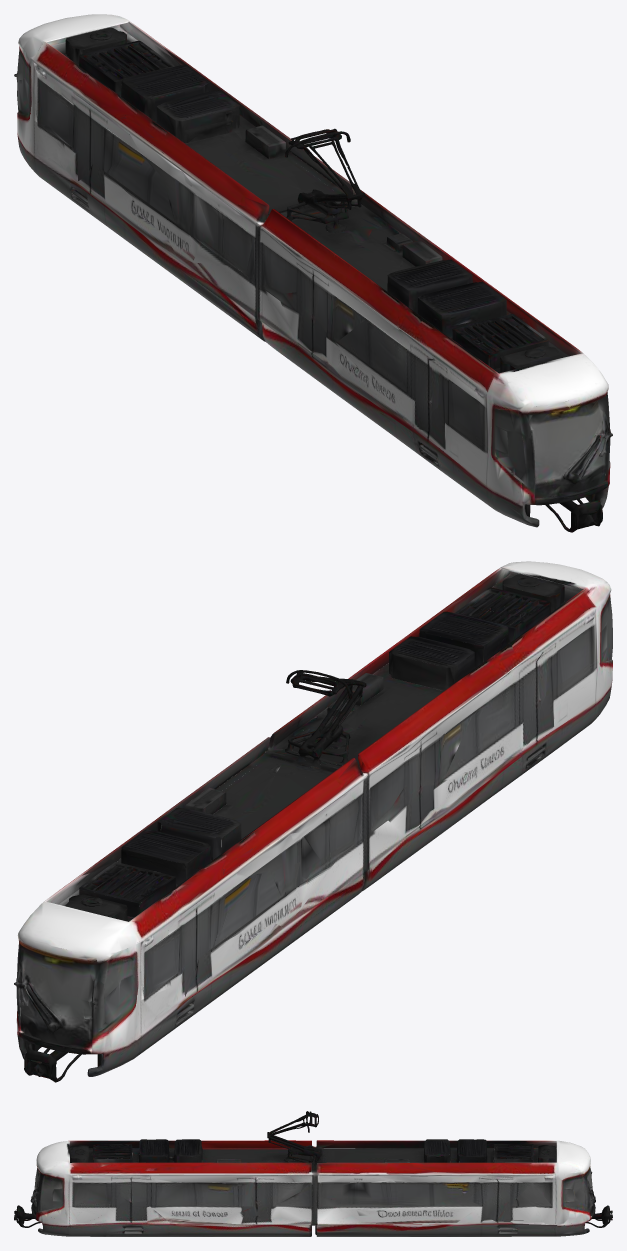
File: train.glb
3 renders of one model, top to bottom at view 1: azimuth 30°, elevation 25°; view 2: azimuth 150°, elevation 25°; view 3: azimuth 270°, elevation 25°, orthographic. The views are drawn at different scales.
Visible parts, largest first — view 1: material; view 2: material; view 3: material.
Part boxes in pixels (x1=…): material: x1=14, y1=14, x2=612, y2=532; material: x1=14, y1=561, x2=612, y2=1082; material: x1=14, y1=1111, x2=612, y2=1236.
Bounding box in the file's own units: 0.1356 × 0.248 × 1.18.
1 material, 1 textured.
